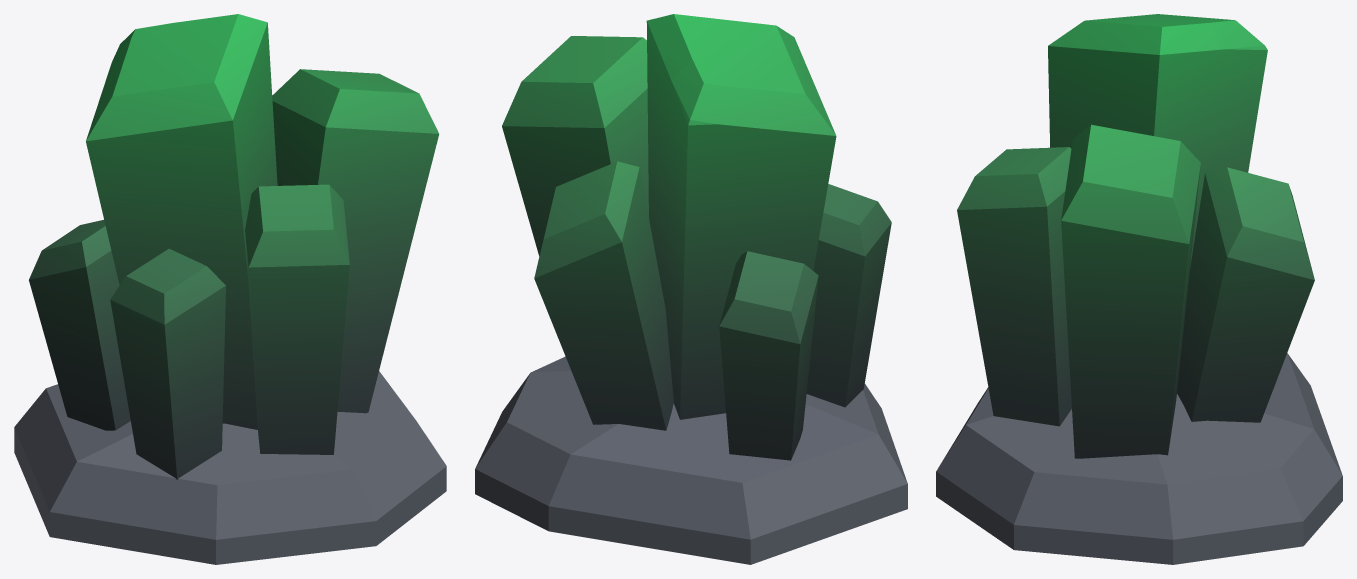
The model's file is Stone_3.fbx.
3 renders of one model, left to right at view 1: azimuth 30°, elevation 25°; view 2: azimuth 150°, elevation 25°; view 3: azimuth 270°, elevation 25°, orthographic.
Parts seen in each view (by area): view 1: Stone_3; view 2: Stone_3; view 3: Stone_3.
Part boxes in pixels (left/top/right/bottom): Stone_3: left=14, top=14, right=446, bottom=564; Stone_3: left=475, top=14, right=907, bottom=564; Stone_3: left=936, top=14, right=1342, bottom=564.
Size of the model in its own units: 1.1 by 1.03 by 1.27.
